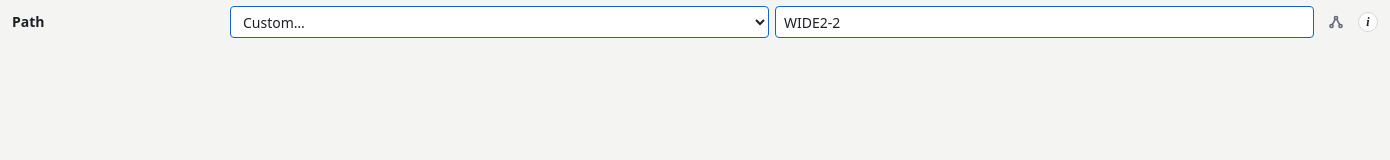
it: SettingsPath › puts the path in force back on Esc
The image size is (1390, 160).
Replace the text in the field with id "set-beacon-path-typed" with "WIDE2-1": (1044, 22) [775,6,1314,38]
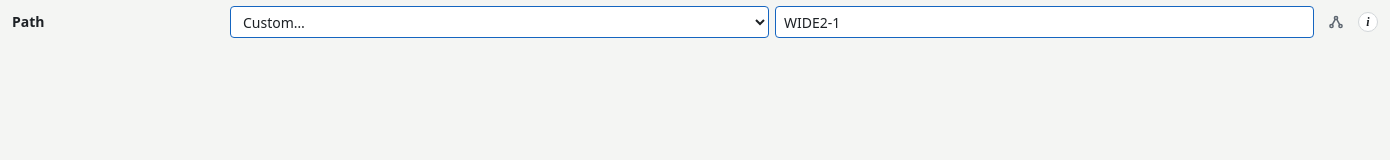
Press Escape in the field with id "set-beacon-path-typed", box [775,6,1314,38]
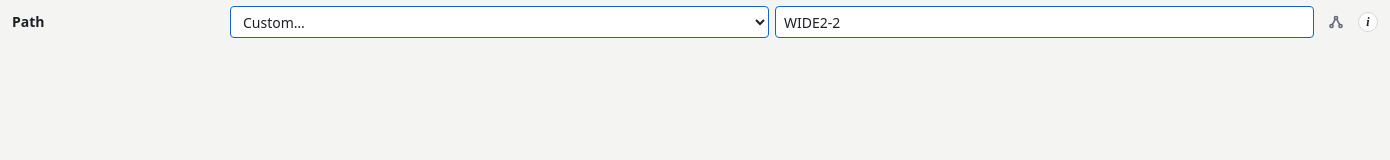
Expected: the field with id "set-beacon-path-typed" holds "WIDE2-2", [775,6,1314,38]
